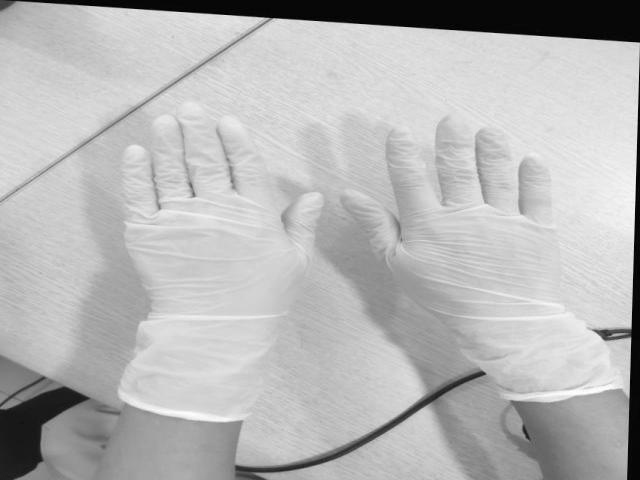gloved: (340, 115, 566, 310), (121, 103, 322, 321)
